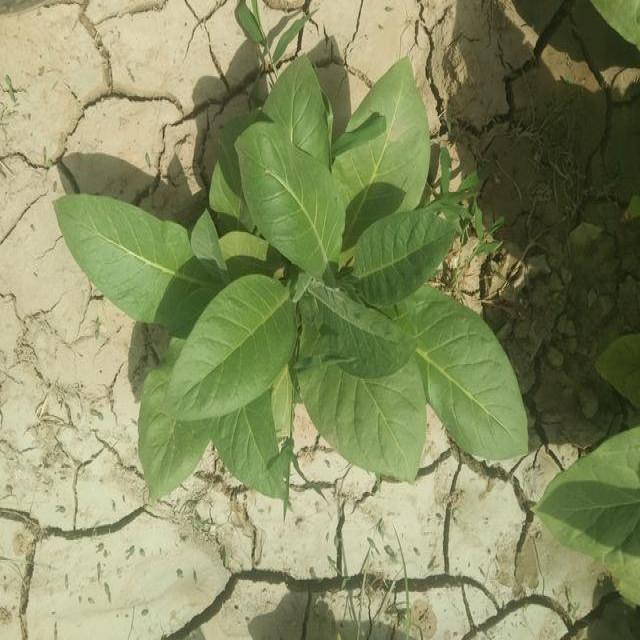crop: (76, 194, 328, 486), (326, 246, 526, 468), (272, 76, 443, 274)
